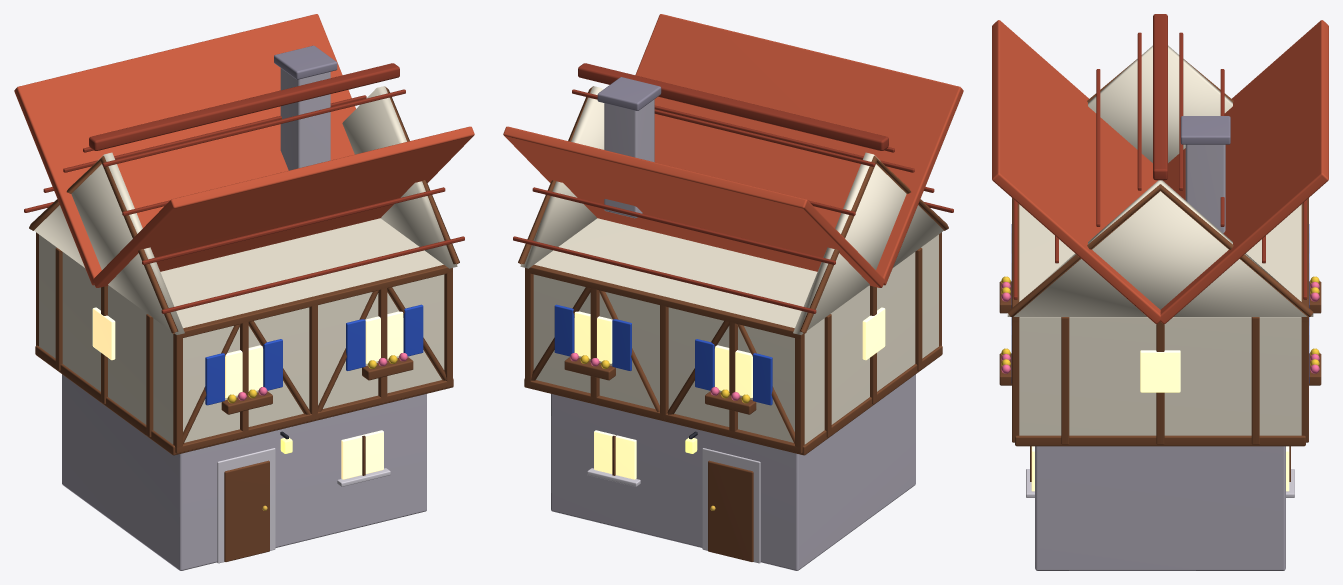
Rendered from faire_house.glb.
3 views of the same model, side by side, from view 1: azimuth 30°, elevation 25°; view 2: azimuth 150°, elevation 25°; view 3: azimuth 270°, elevation 25° (orthographic). The views are drawn at different scales.
Visible parts, largest first — view 1: House; view 2: House; view 3: House.
Boxes of the visible parts, x1,y1,x2,y2 form: House: (14, 14, 474, 570); House: (503, 14, 963, 570); House: (992, 14, 1328, 570).
Size of the model in its own units: 7.4 by 9.36 by 6.72.
